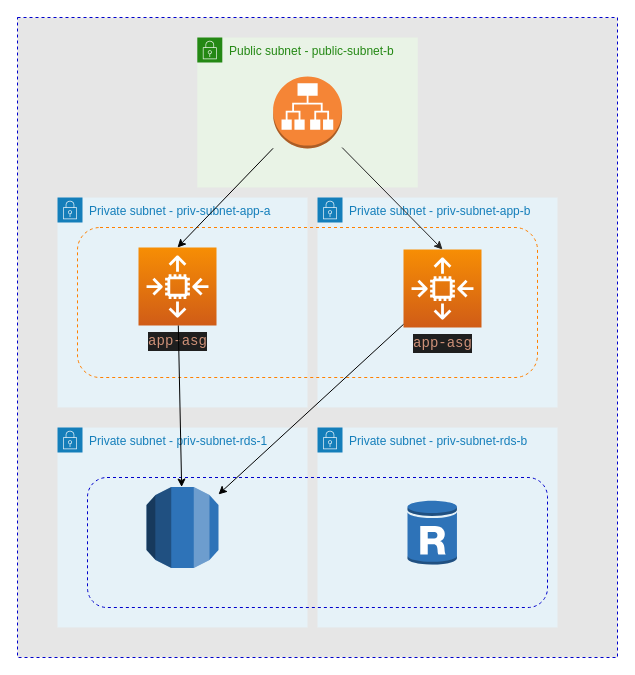
This 635x675 diagram has some shape labels left out. The centre of each missing label's shape, as x and y in pixels:
"alb-app" belongs at point (307, 112).
"rds-mysql-app-db" belongs at point (182, 527).
"rds-mysql-app-db-read-replica" belongs at point (431, 532).
